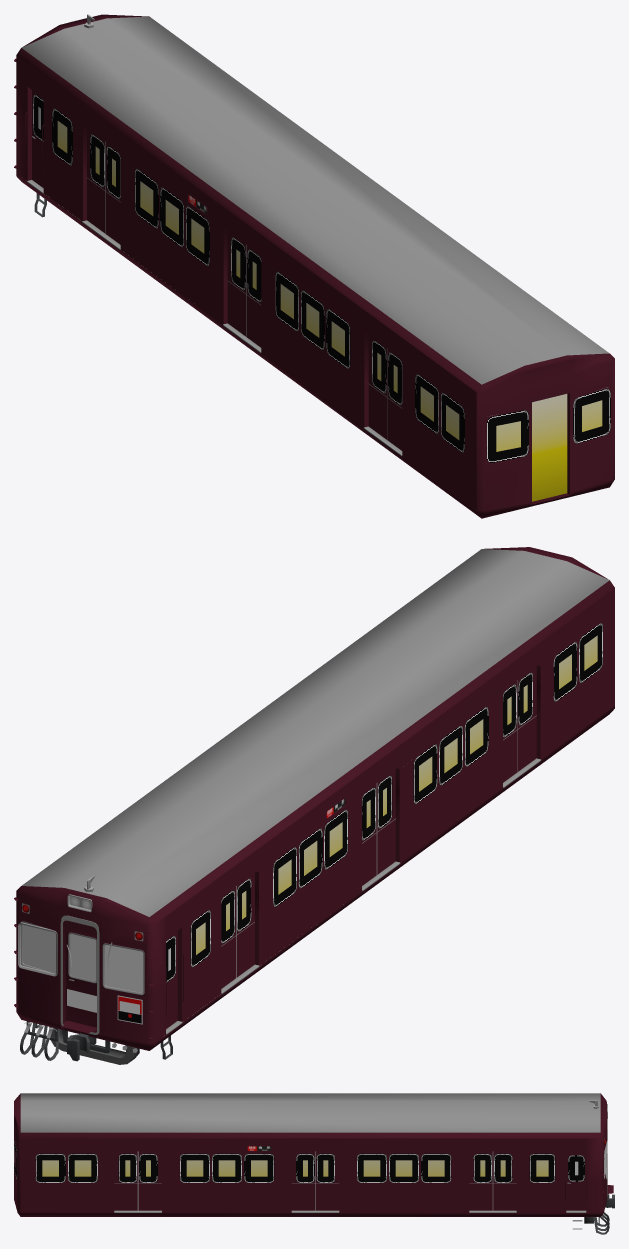
The picture shows the model from 3 angles, top to bottom: view 1: azimuth 30°, elevation 25°; view 2: azimuth 150°, elevation 25°; view 3: azimuth 270°, elevation 25°; orthographic projection. The views are drawn at different scales.
Visible parts, largest first — view 1: IN; view 2: IN; view 3: IN.
Boxes of the visible parts, x1=… form: IN: x1=14, y1=14, x2=614, y2=518; IN: x1=14, y1=547, x2=614, y2=1064; IN: x1=14, y1=1093, x2=614, y2=1234.
Size of the model in its own units: 6.68 by 8.27 by 38.95.
Materials: 18 (16 with a texture image).
